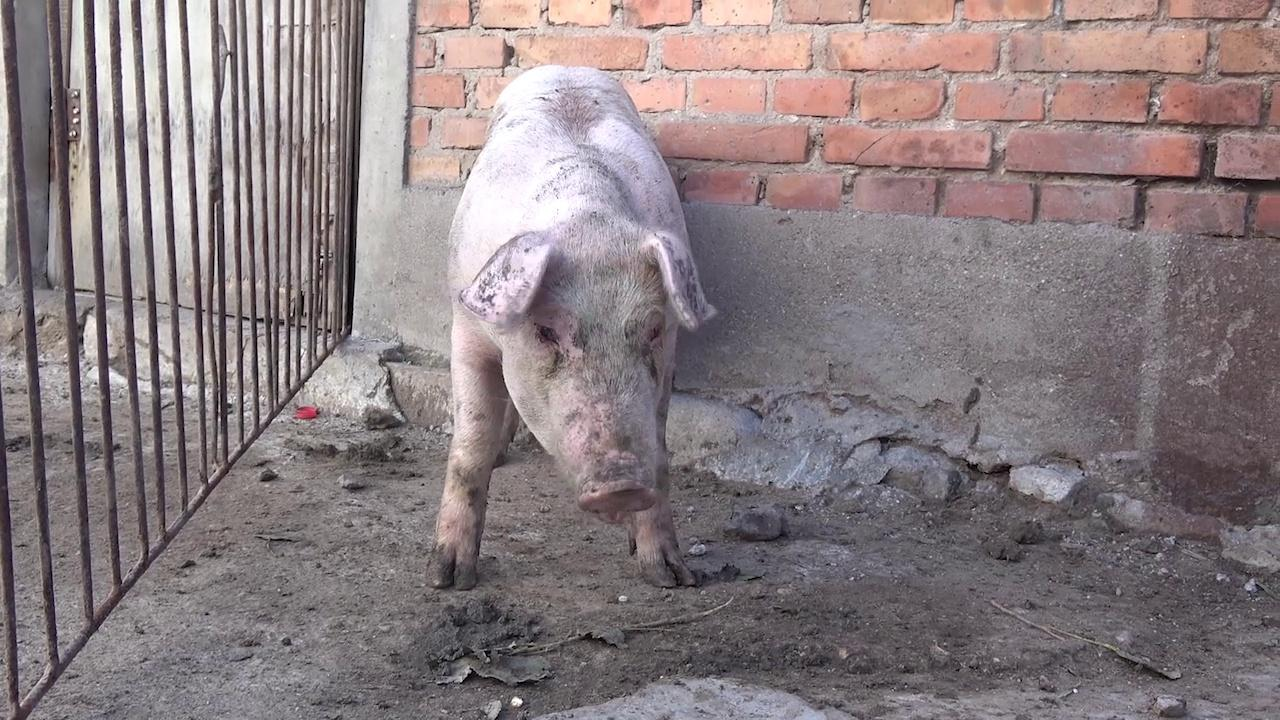Face: (460, 220, 728, 534)
